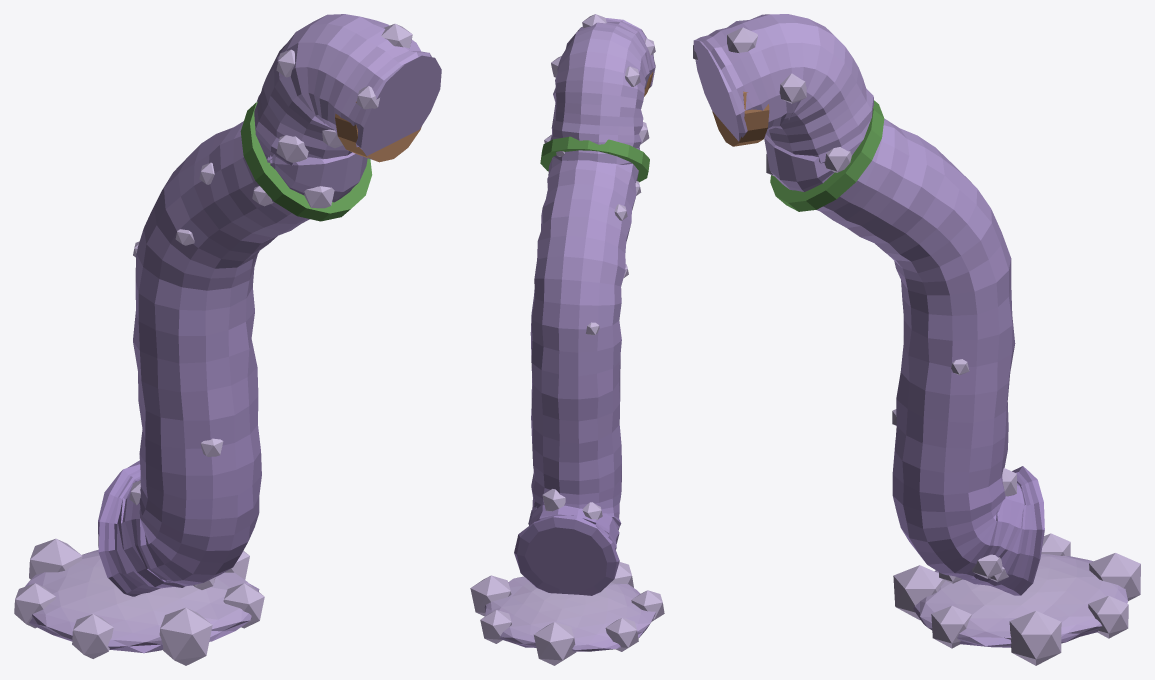
File: goo_drop_tube_goo_2@mushroom.fbx
The picture shows the model from 3 angles, left to right: view 1: azimuth 30°, elevation 25°; view 2: azimuth 150°, elevation 25°; view 3: azimuth 270°, elevation 25°; orthographic projection. The views are drawn at different scales.
Visible parts, largest first — view 1: goo_drop_tube_goo_2; view 2: goo_drop_tube_goo_2; view 3: goo_drop_tube_goo_2.
Part boxes in pixels (box(x1,y1,x2,y2)): goo_drop_tube_goo_2: box(14, 14, 441, 665); goo_drop_tube_goo_2: box(470, 14, 664, 665); goo_drop_tube_goo_2: box(693, 14, 1140, 665).
Bounding box in the file's own units: 8.66 × 21.79 × 13.69.
